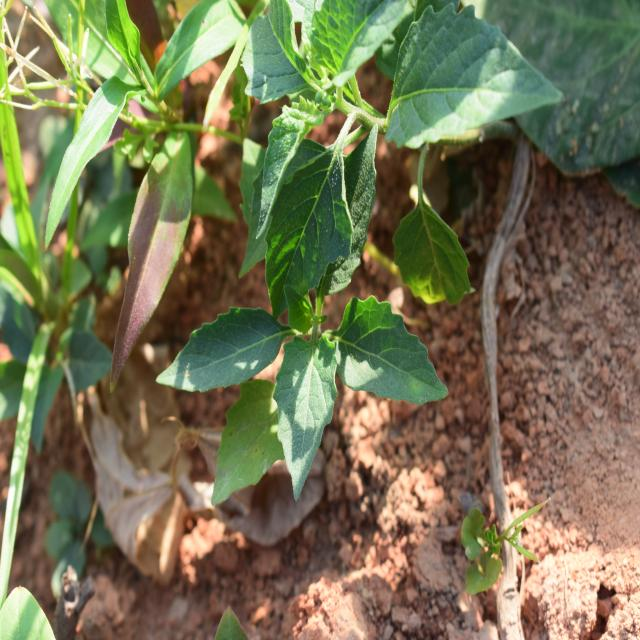Black_nightshade: (242, 0, 526, 276), (188, 137, 436, 450)
